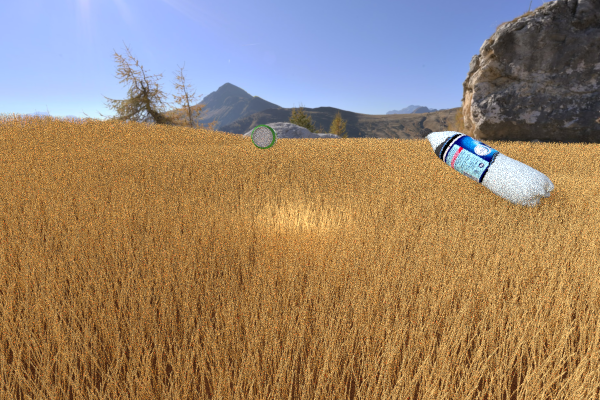bottle: (421, 127, 556, 208)
can: (6, 111, 68, 139), (340, 128, 378, 149)
